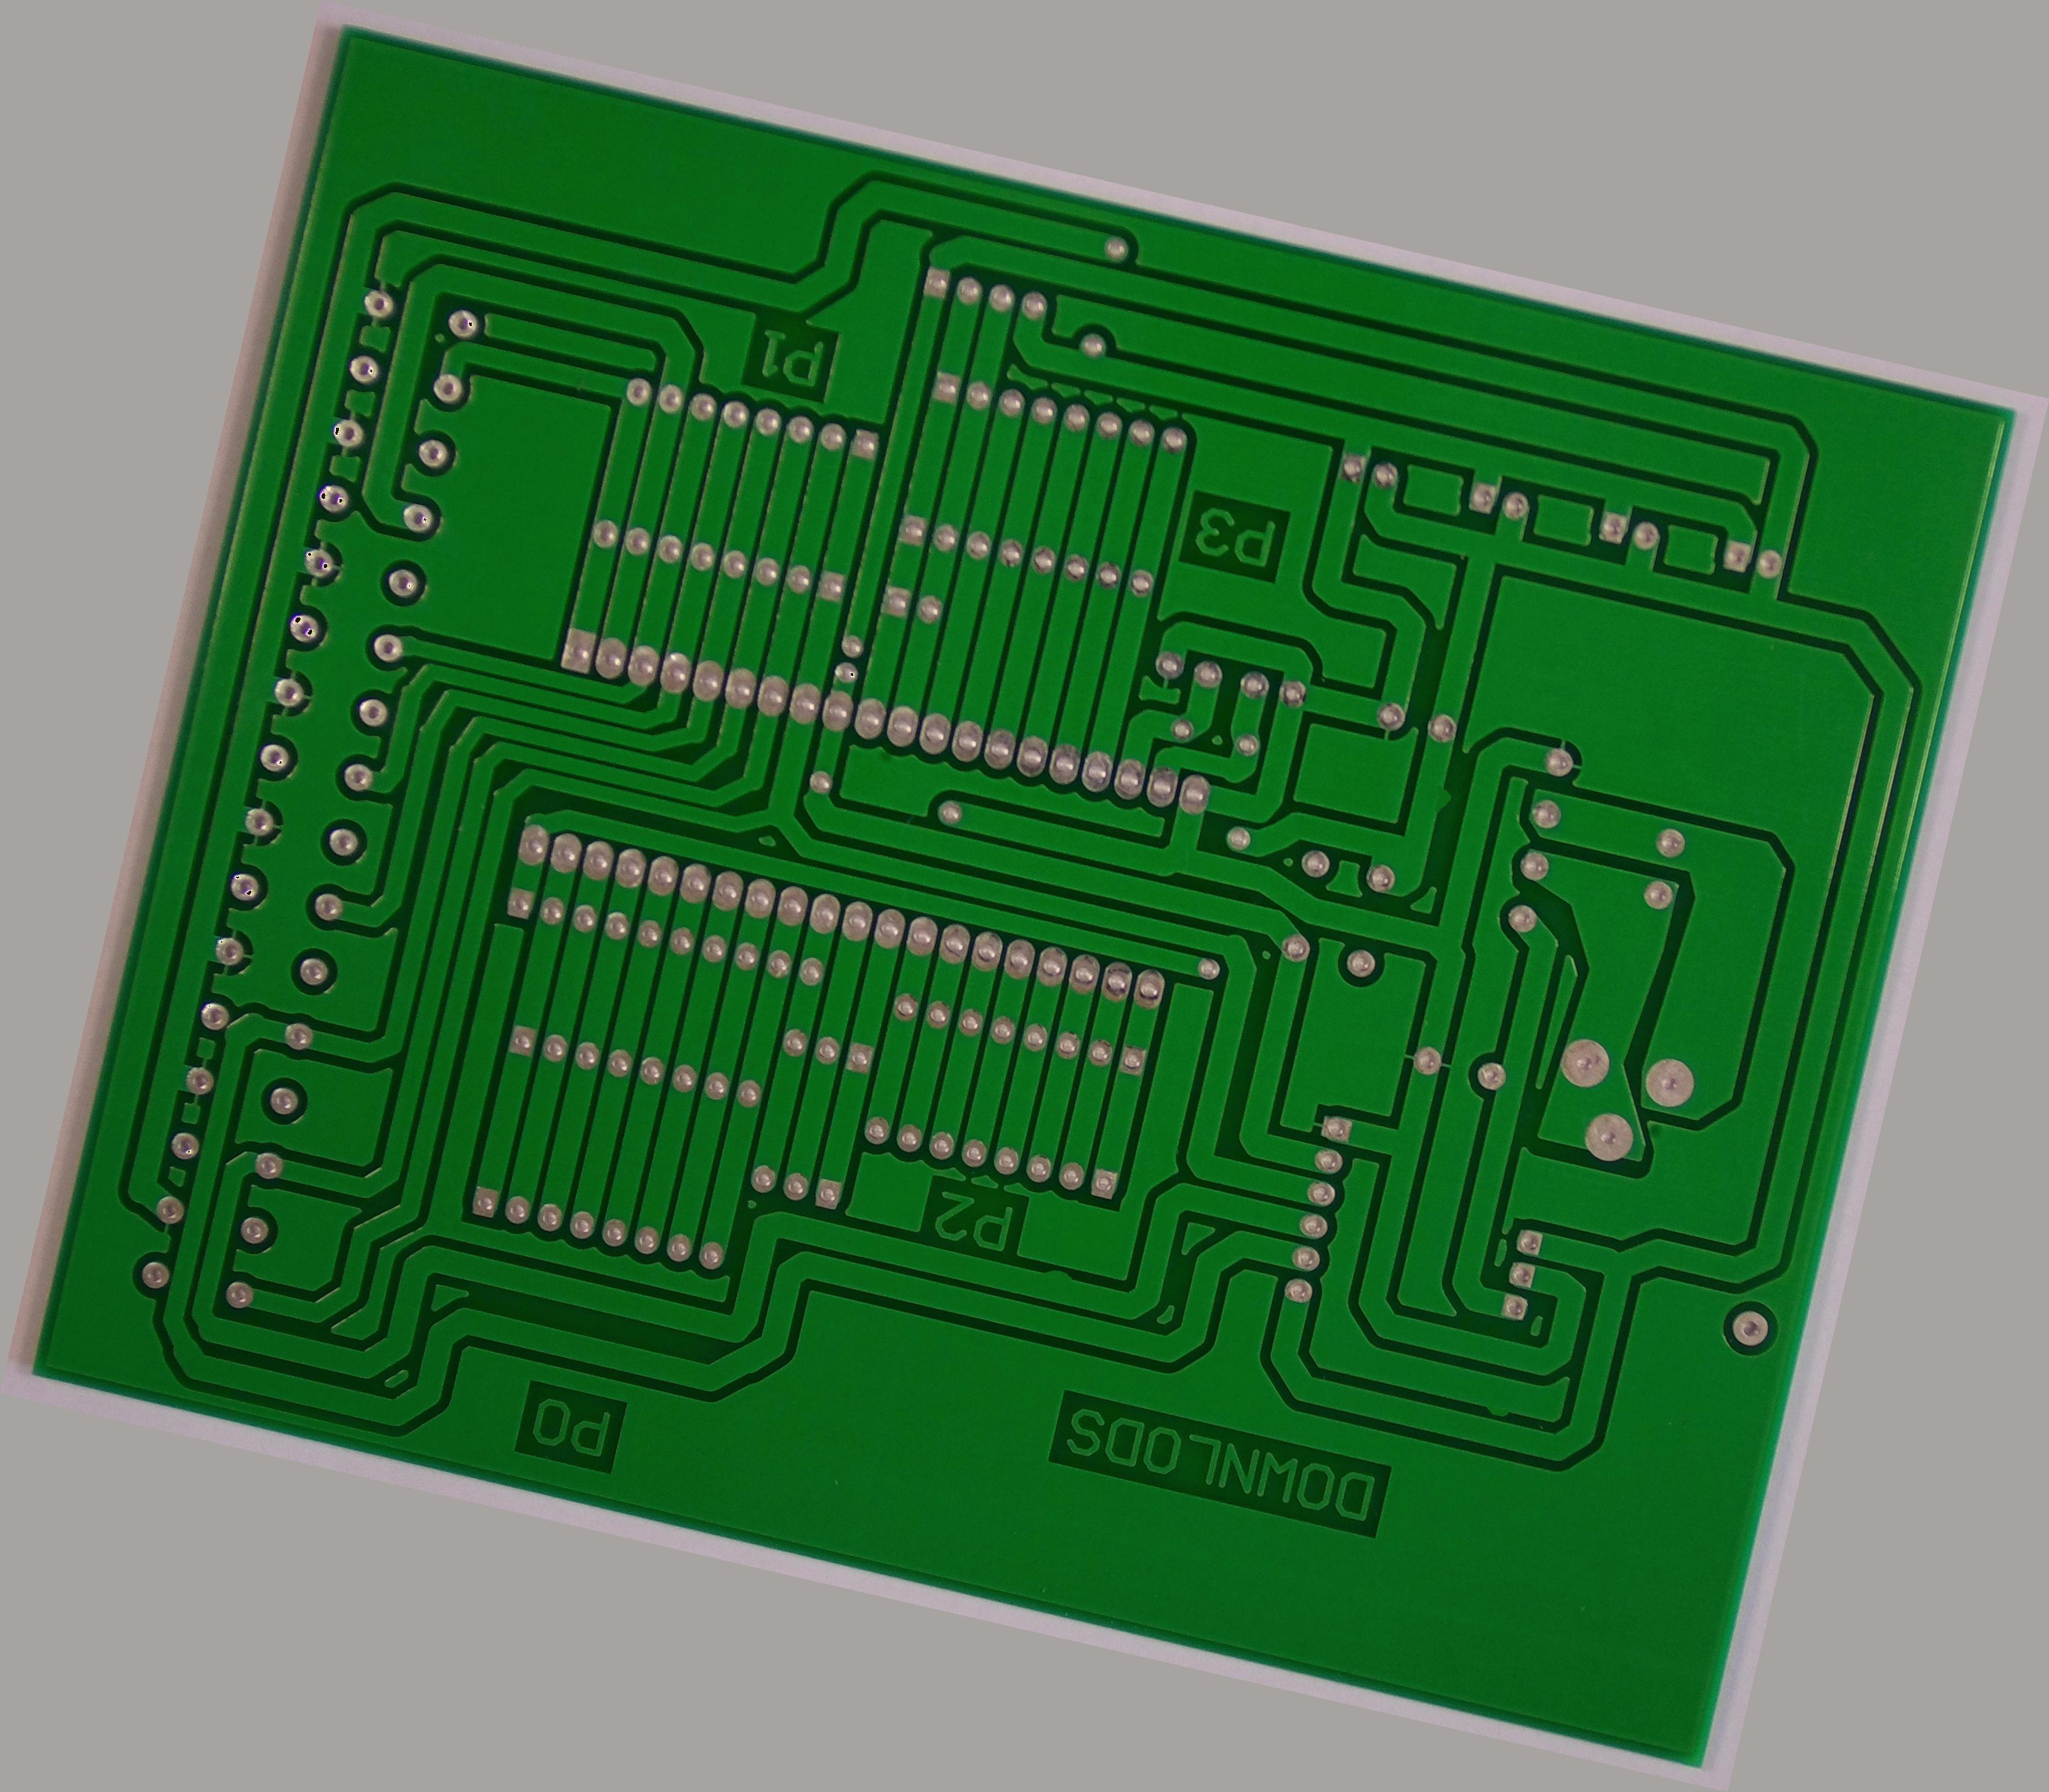spur: (1033, 1255, 1085, 1299), (1474, 1382, 1523, 1424), (1423, 772, 1462, 823)
